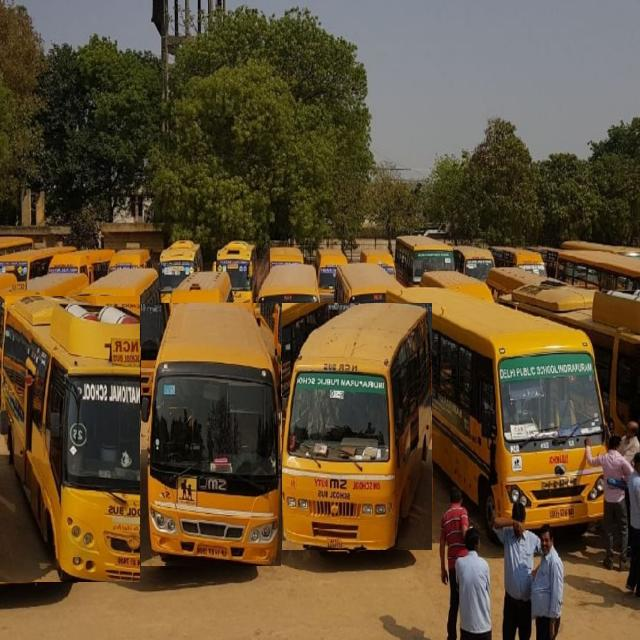bus: (386, 287, 605, 531), (0, 297, 140, 582), (282, 304, 432, 550), (141, 303, 281, 566)
